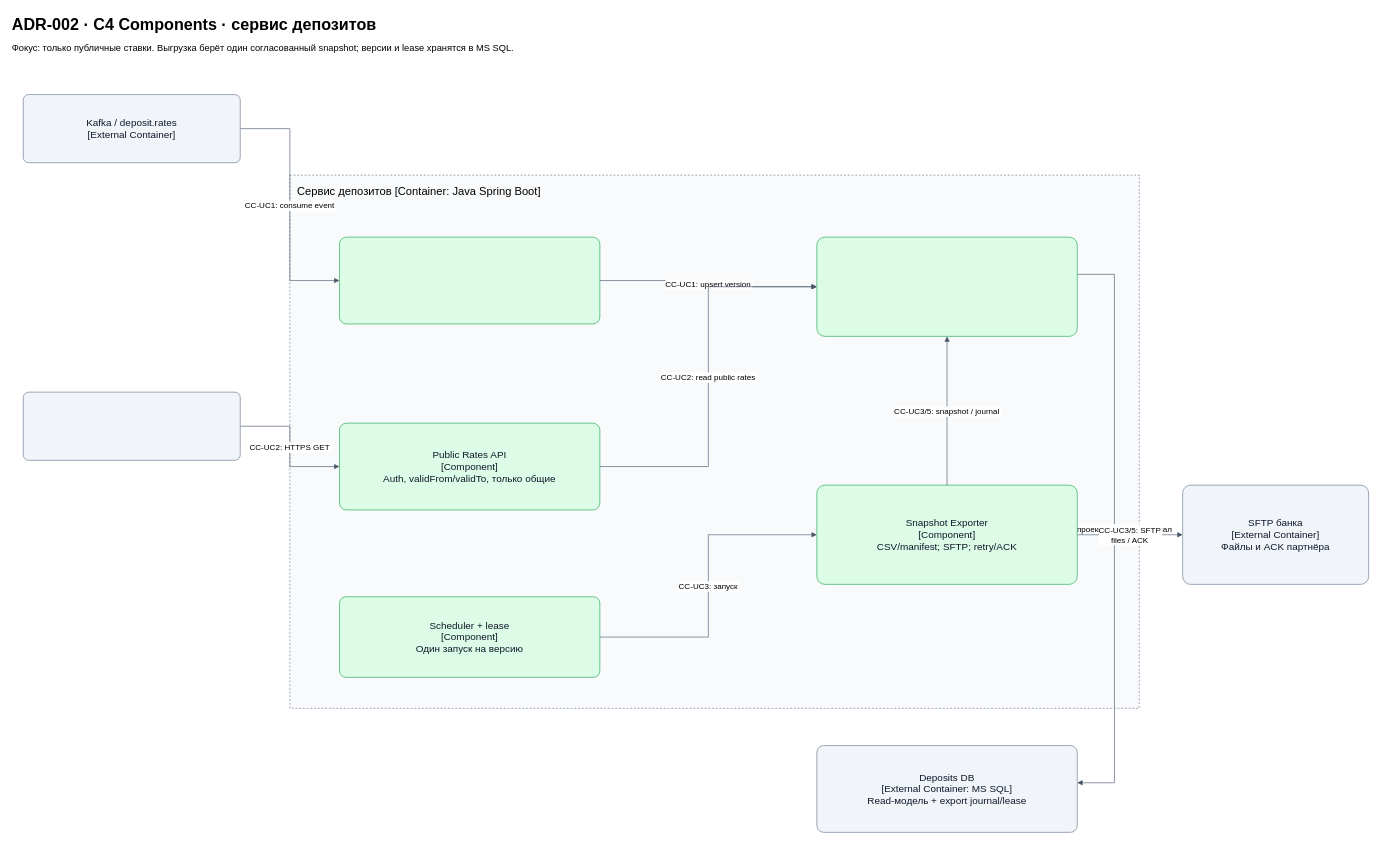
This 1397x843 diagram has some shape labels left out. The box of each missing label's shape, as (x1, y1, x2, y2) in pixels:
Backend кол-центра [External Container]: (23, 392, 240, 460)
Rates Projection Consumer [Component] Проверяет approved/version: (339, 237, 600, 324)
Rates Repository [Component] Чтение snapshot / атомарная смена версии: (816, 237, 1077, 336)
